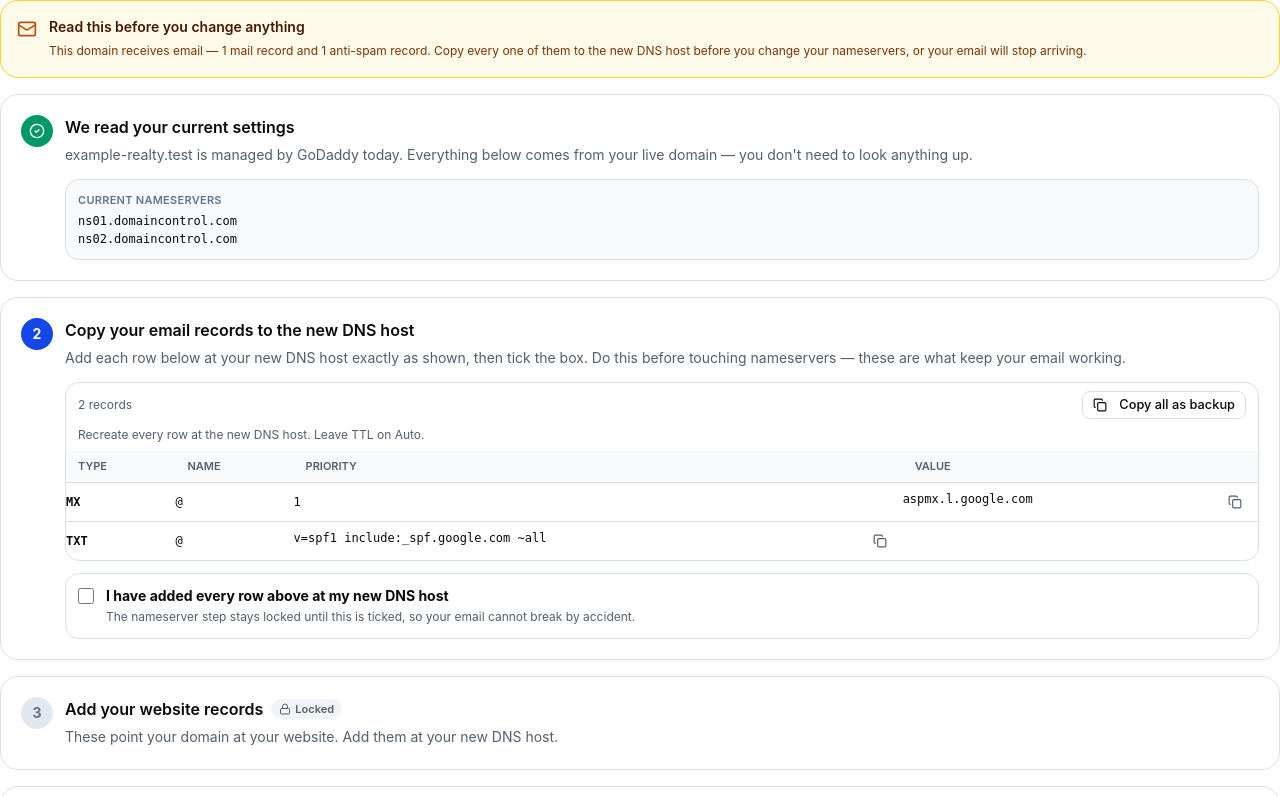
Test: with a nameserver pair configured — a real cutover › prints the configured pair and nothing invented
Click the checkbox labelled "added every row above" at (86, 596), box x1=78 y1=588 x2=94 y2=604
(page scrolled)
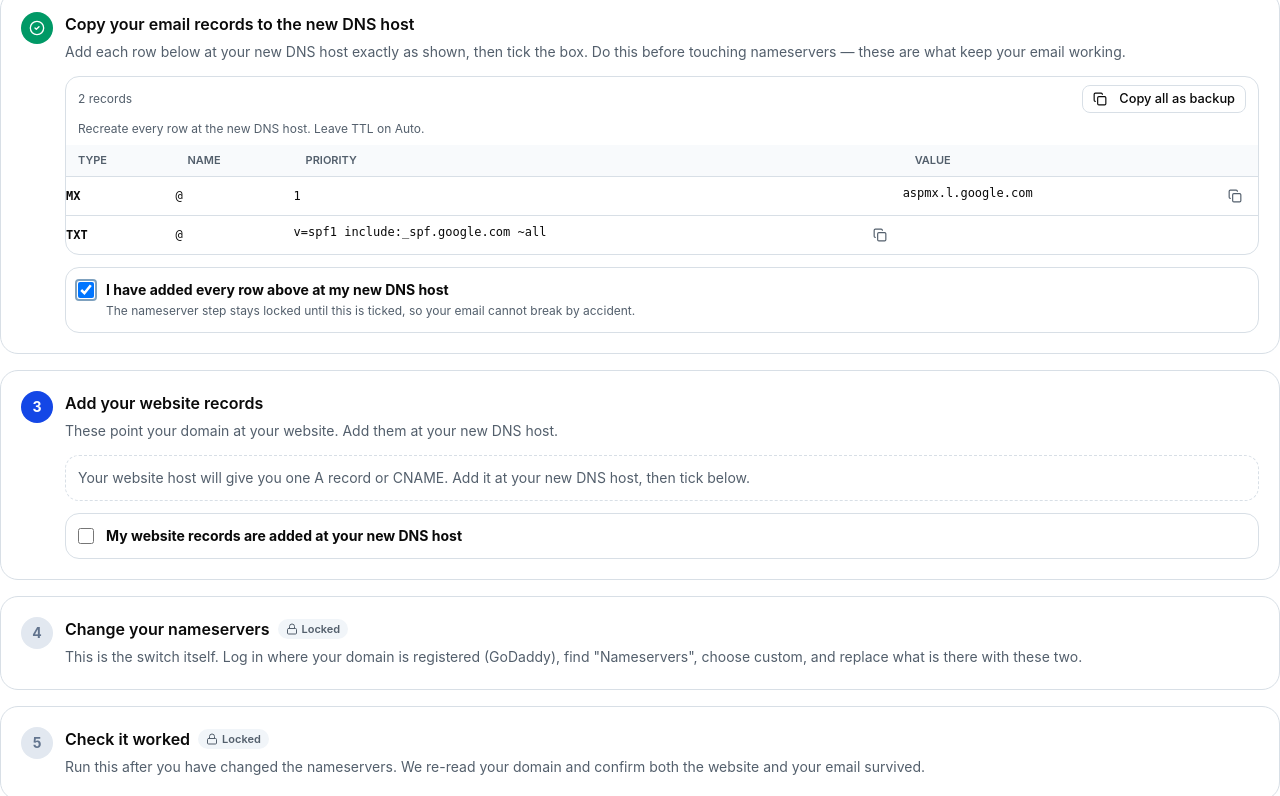
Click the checkbox labelled "My website records are added at your new DNS host" at (86, 536), box x1=78 y1=528 x2=94 y2=544
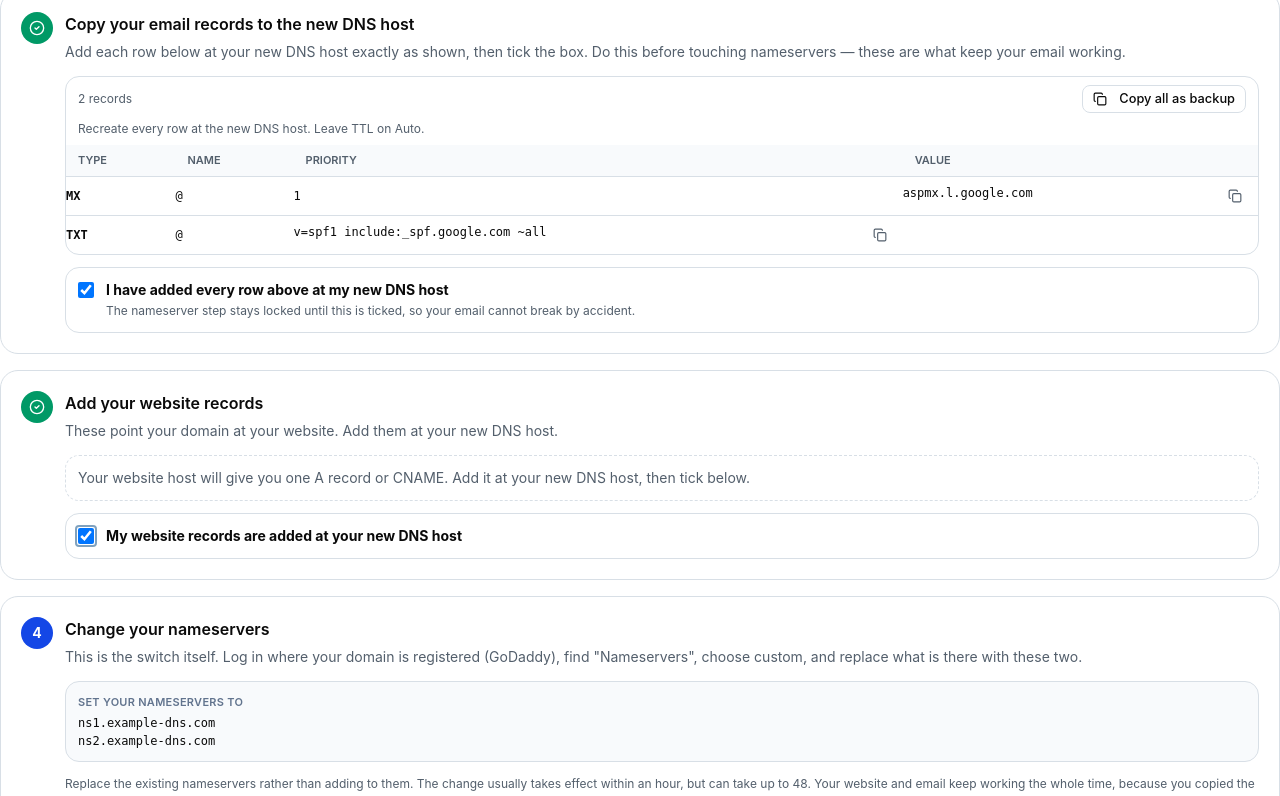
Expected: the text "Set your nameservers to" is shown, x1=78 y1=695 x2=243 y2=709
Expected: the list item "ns1.example-dns.com" is shown, x1=78 y1=716 x2=215 y2=730
Expected: the list item "ns2.example-dns.com" is shown, x1=78 y1=734 x2=215 y2=748
